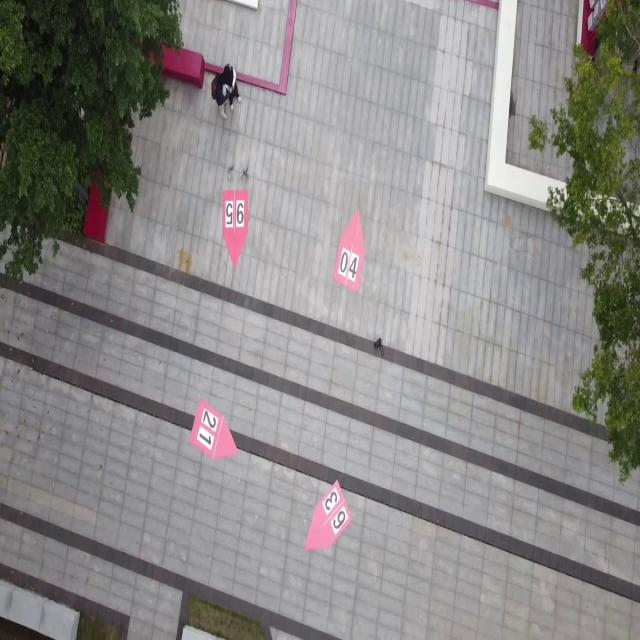-sign-: (304, 479, 354, 552), (190, 400, 238, 461), (333, 208, 366, 293), (221, 186, 248, 268)
